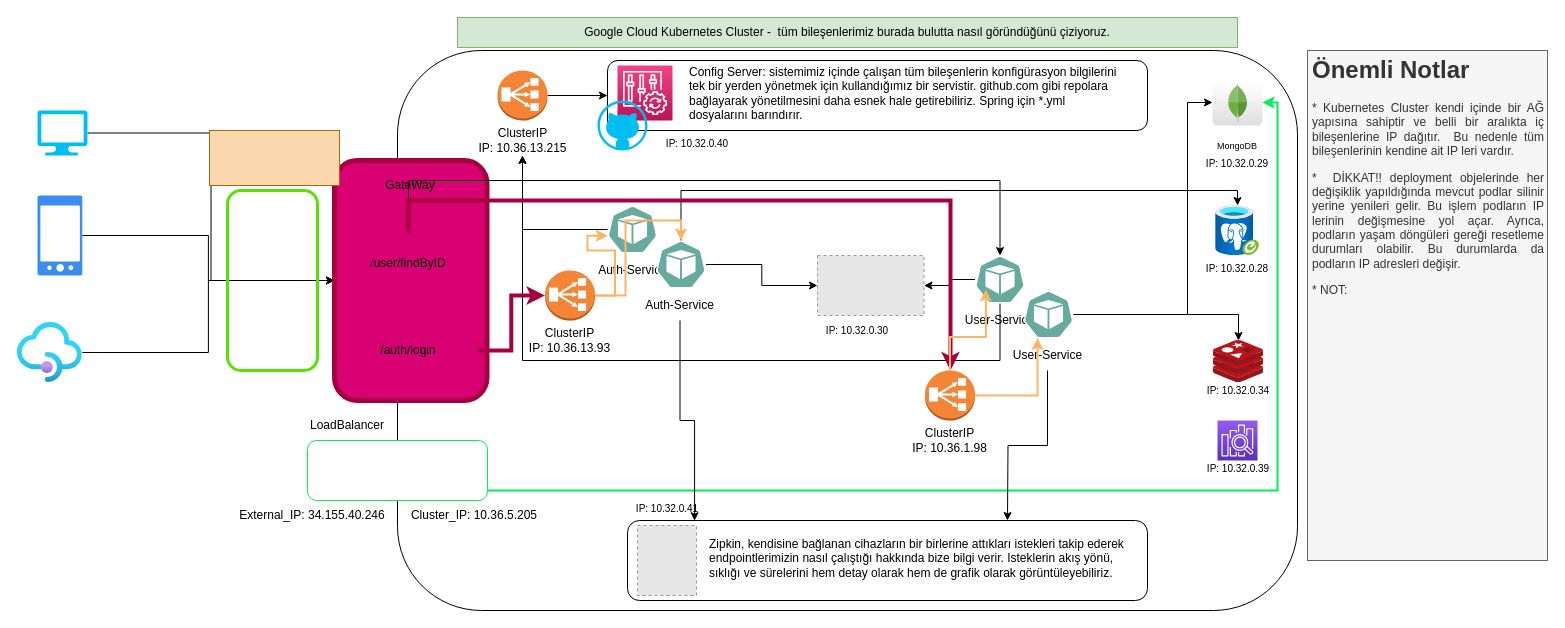
Image size: 1565x628. Some labels were removed from this diagram. Grey dashed boxes stand in for pictures. The shapes that lost their labels are listed below. From the top down, each one's centre as x and y in pixels, then its label:
[274,158]: LoadBalancer IP 34.163.113.240
[397,470]: Web, dış dünya ile cluster içindeki yapının bir birine bağlanmasını sağlar
